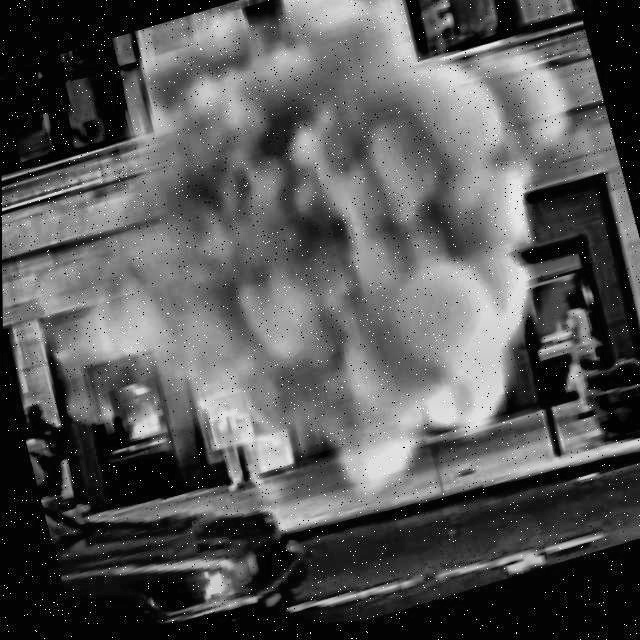Smoke: (0, 0, 640, 583)
